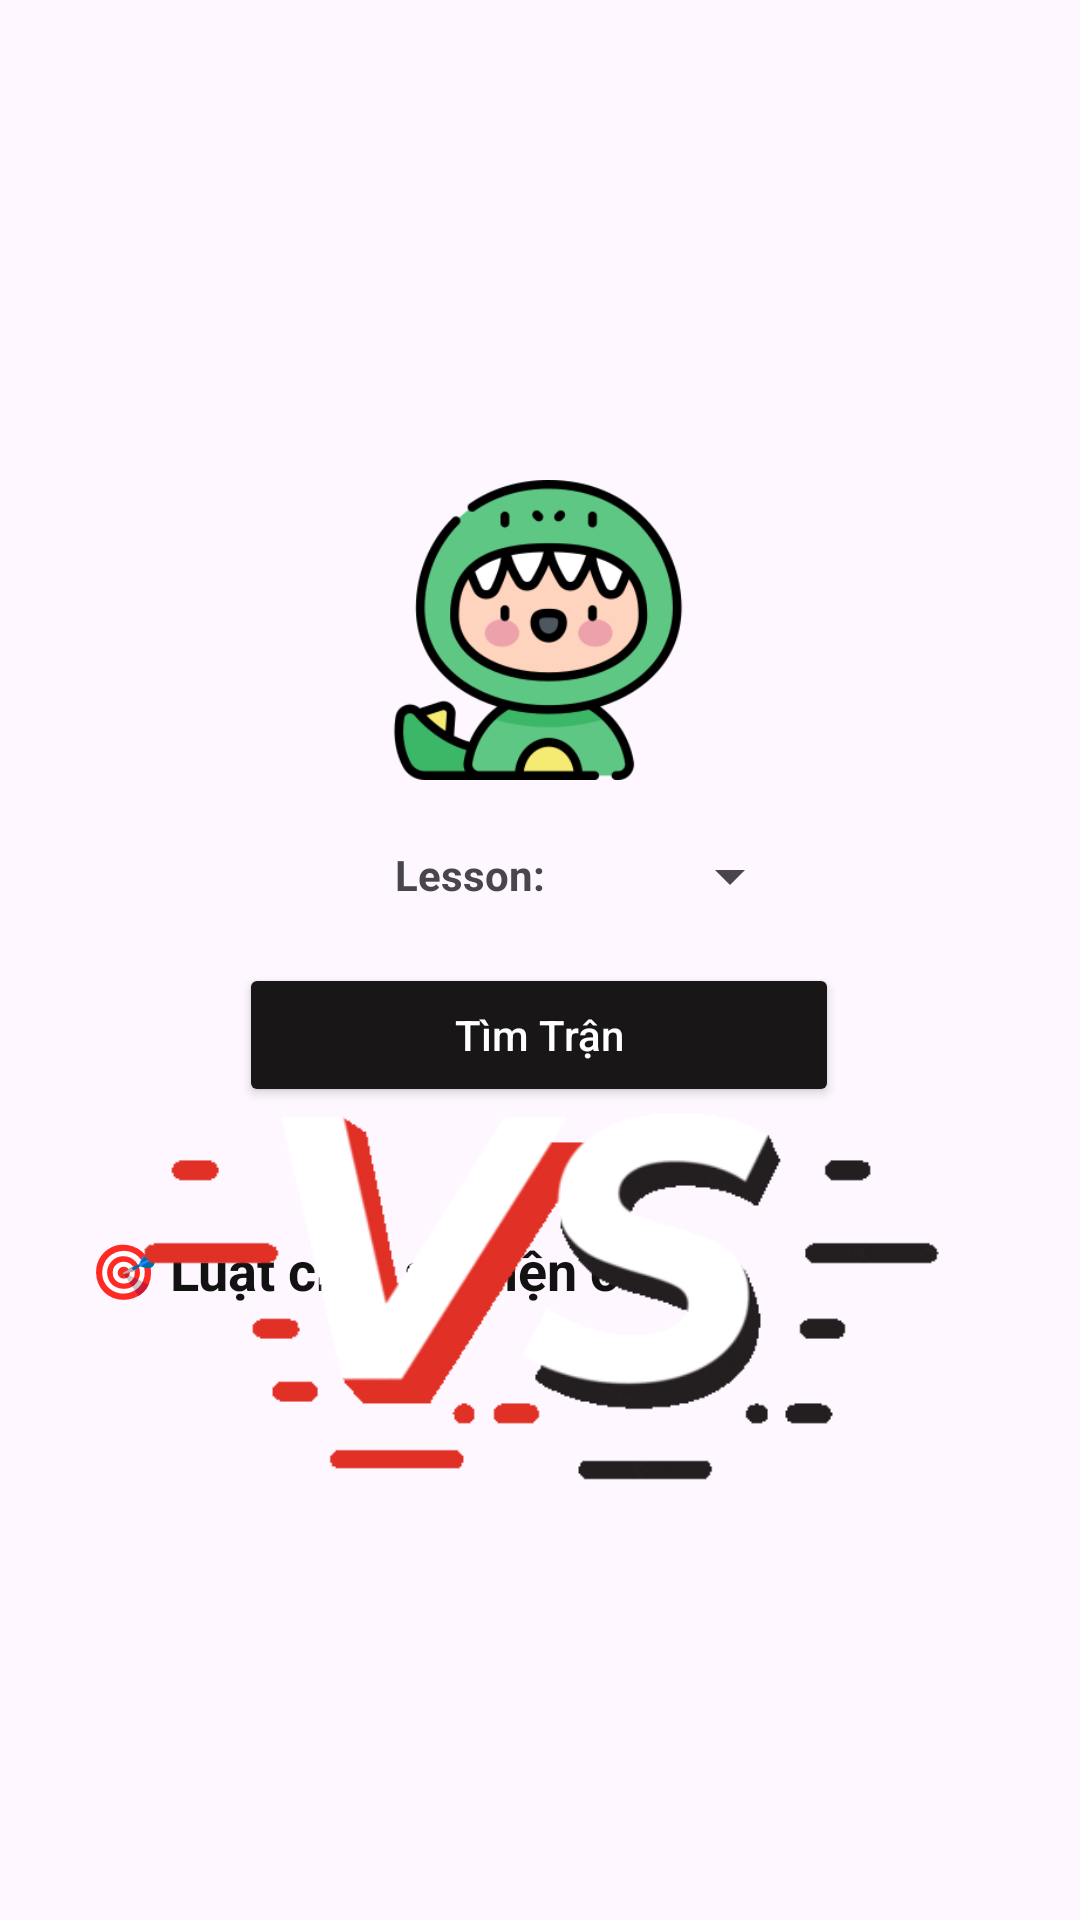

Icon click points for this 1080 × 1920 phone screenshot, format [x,y]:
dinosaur: [538,630]
